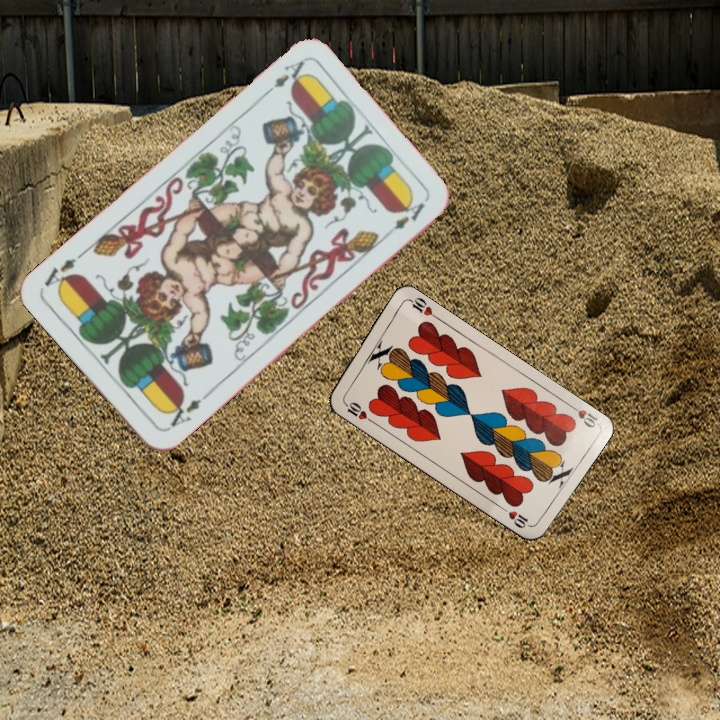EA: (258, 56, 310, 100), (162, 388, 212, 433)
H10: (564, 399, 601, 430), (339, 397, 375, 425)
